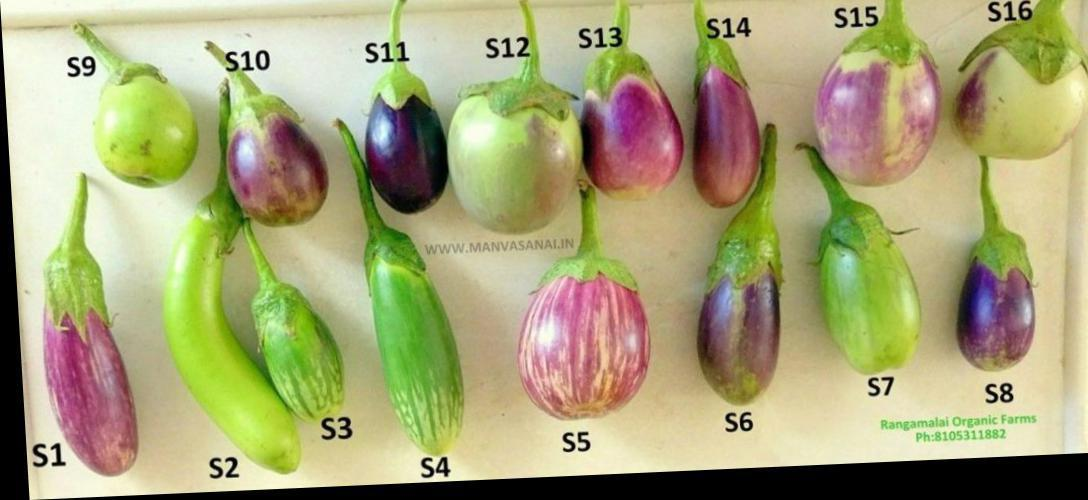eggplant: (154, 193, 337, 442), (332, 190, 488, 458), (502, 197, 654, 427), (12, 195, 140, 444), (792, 158, 927, 388), (448, 60, 579, 244), (804, 36, 942, 208), (682, 205, 789, 410), (969, 0, 1087, 176), (217, 61, 332, 232), (91, 29, 210, 194), (679, 37, 772, 220), (954, 178, 1036, 385), (356, 63, 459, 226), (578, 49, 686, 204)
